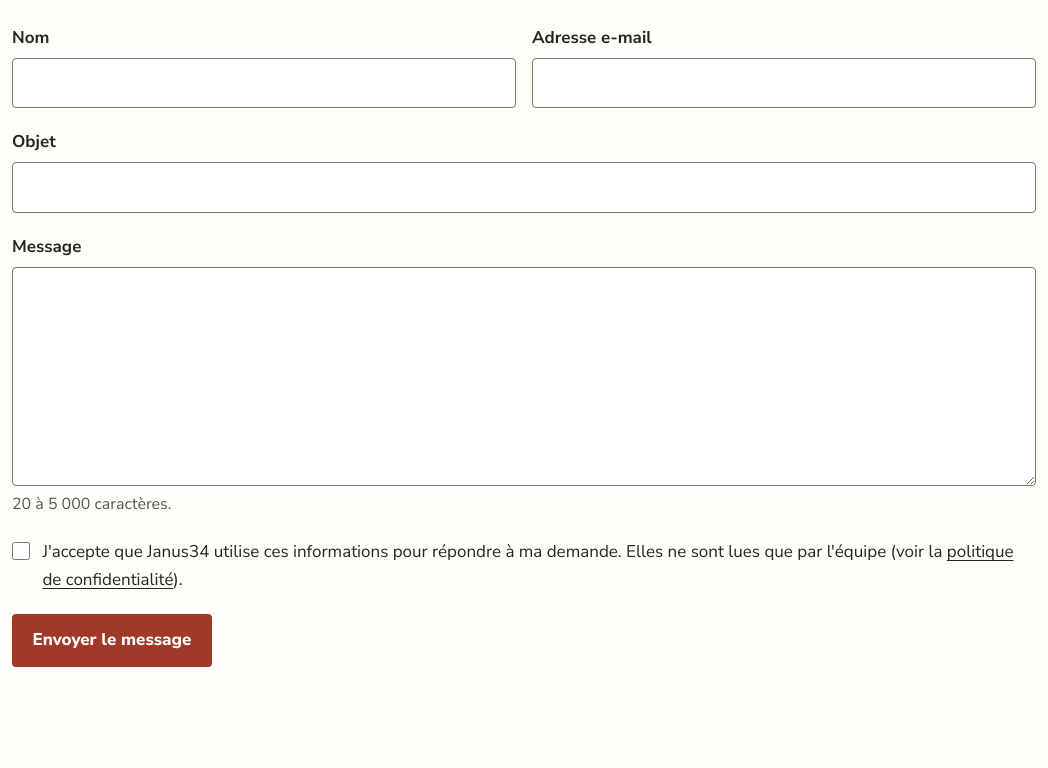
Scenario: keeps the message typed when sending fails
In the field labelled "Nom": (264, 83) [12,58,516,108], type "Camille Martin"
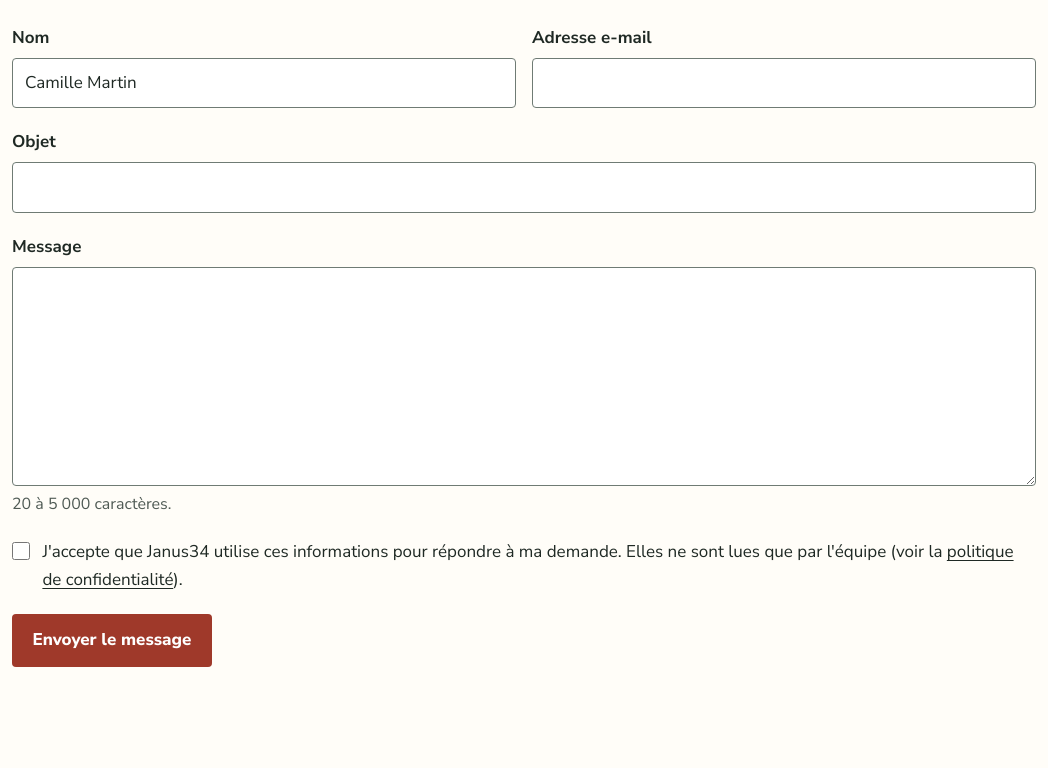
In the field labelled "Adresse e-mail": (784, 83) [532,58,1036,108], type "camille@example.test"
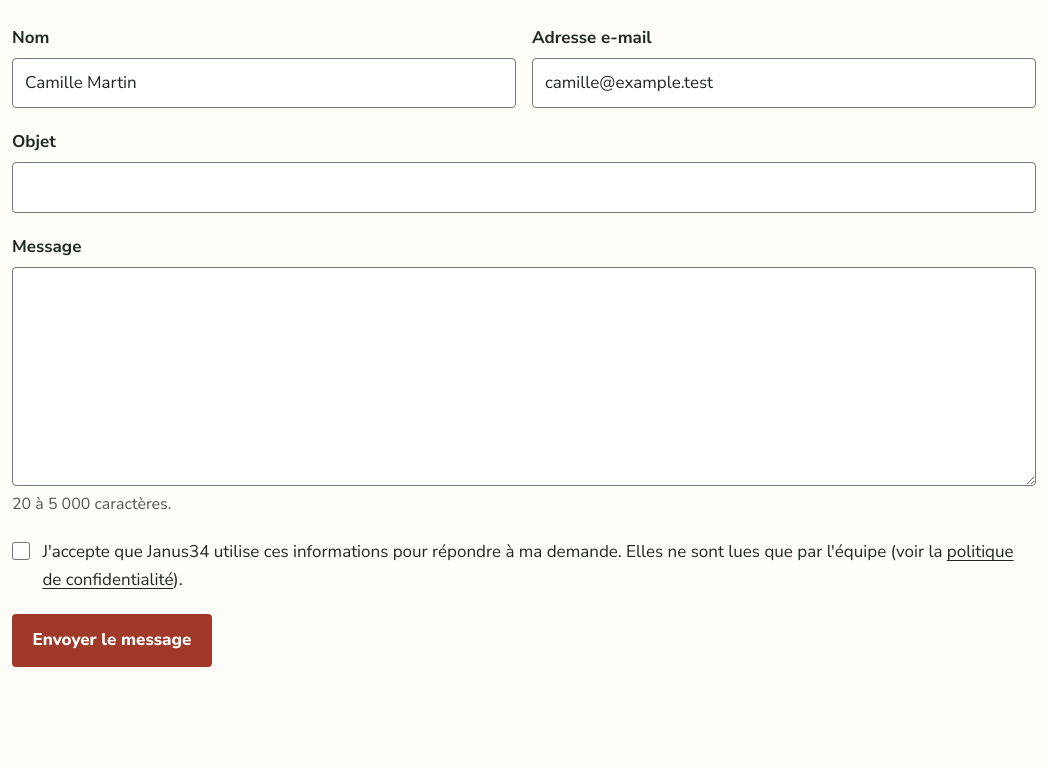
In the field labelled "Objet": (524, 188) [12,162,1036,213], type "Première visite"
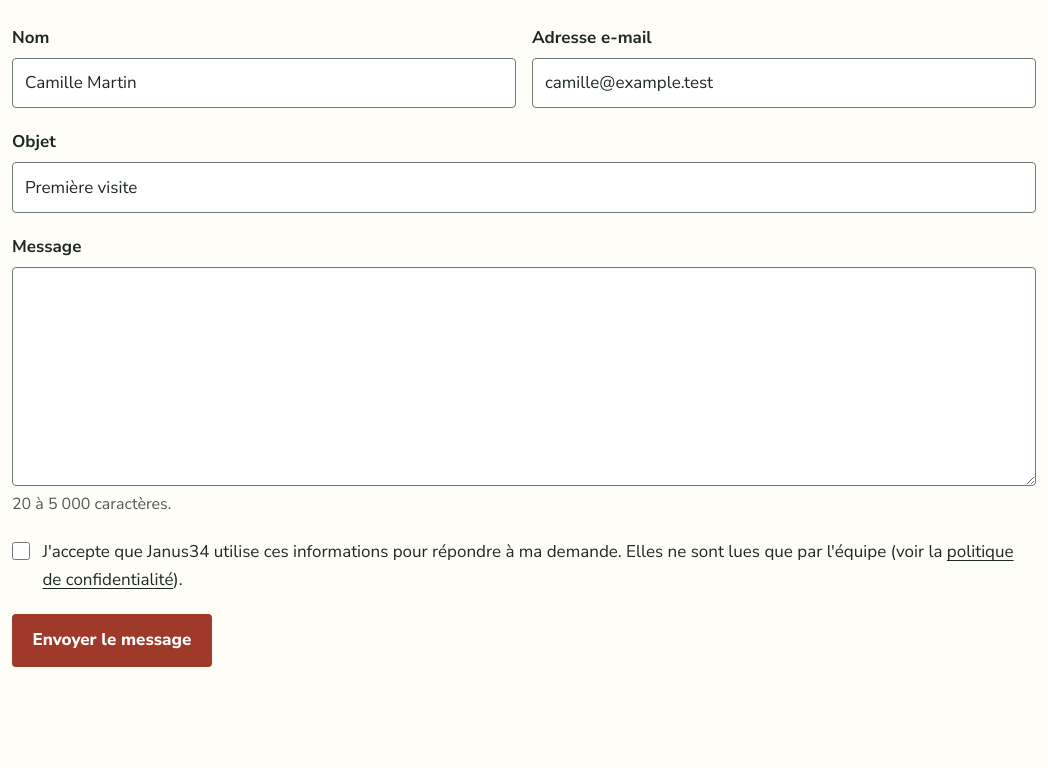
In the text box labelled "Message": (524, 376) [12,267,1036,486], type "Bonjour, je voudrais venir découvrir le GEM."
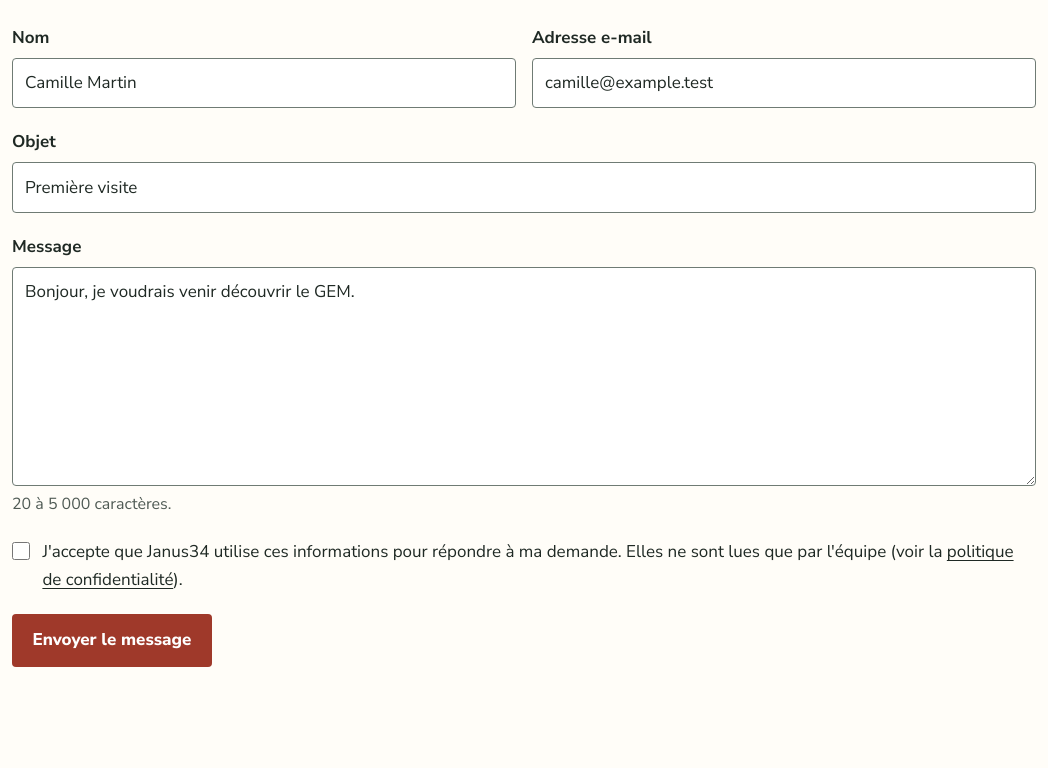
Click the checkbox: (21, 551) [12,542,30,560]
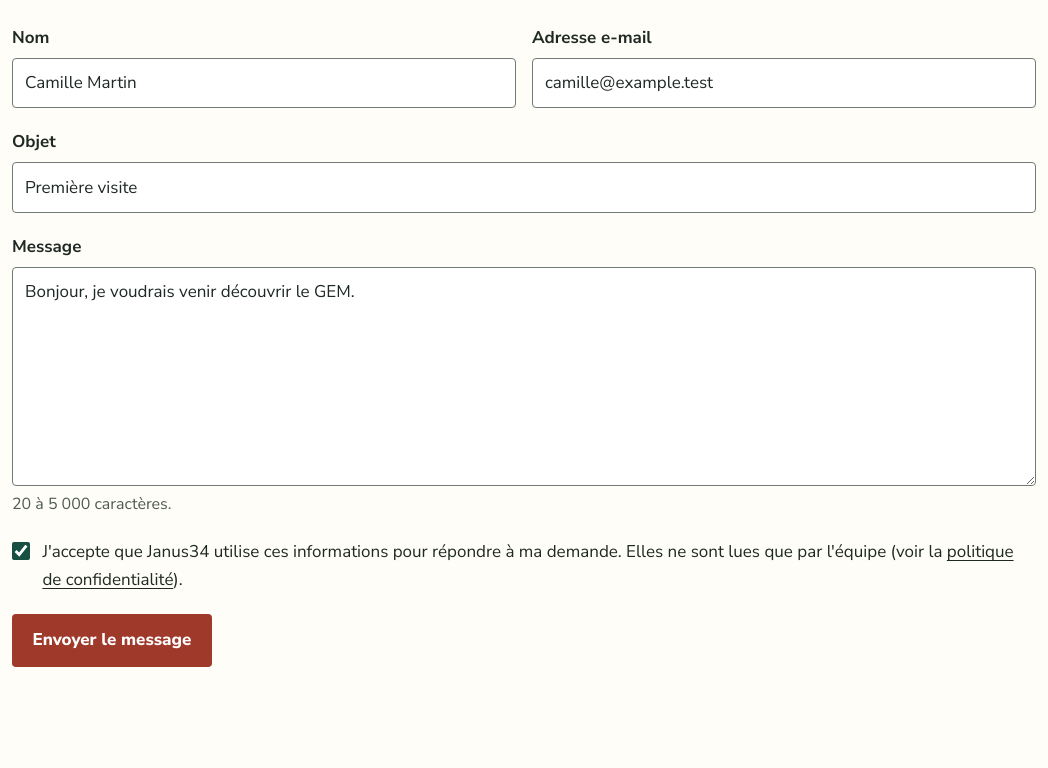
Submit the form
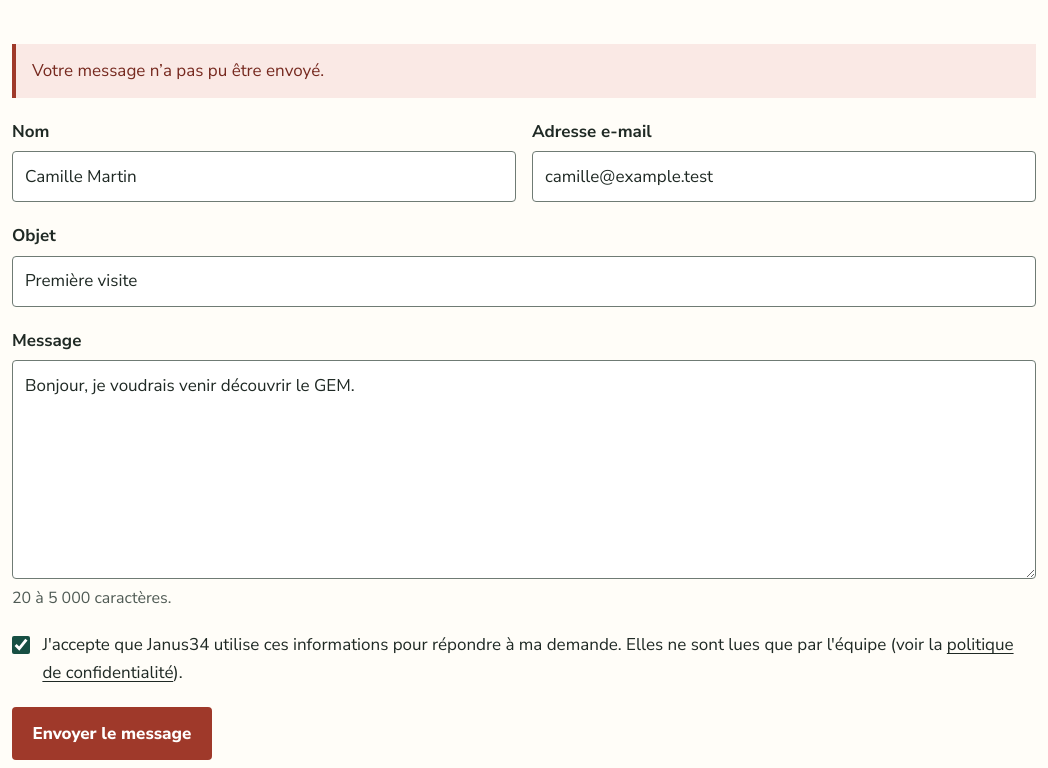
Check: the message shows "n’a pas pu être envoyé", box [32,59,324,82]
